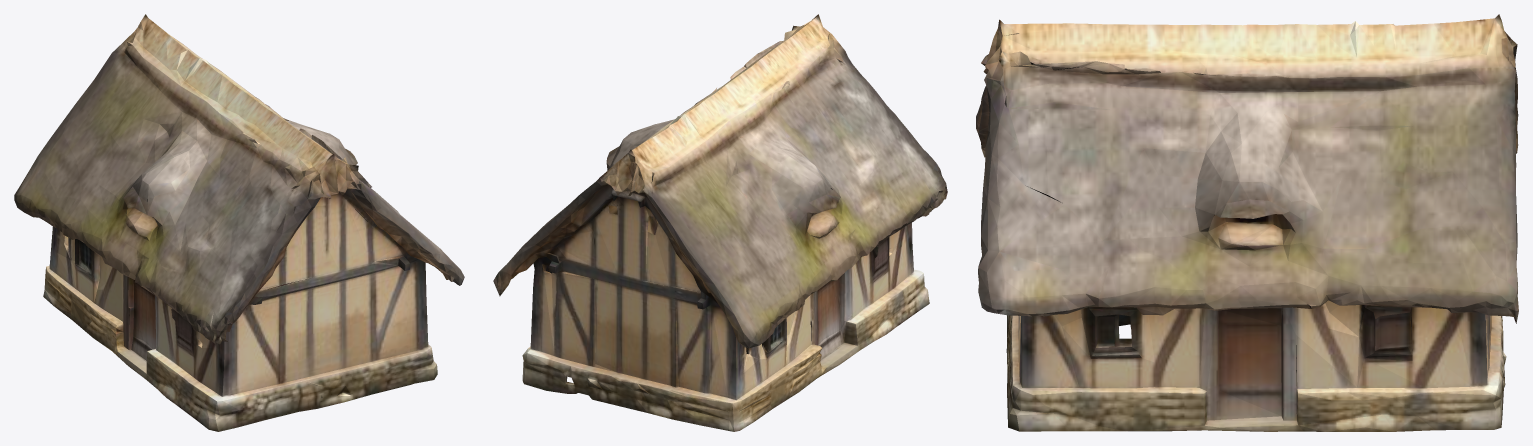
Rendered from ga3_house2_t1_lod0.glb.
3 views of the same model, side by side, from view 1: azimuth 30°, elevation 25°; view 2: azimuth 150°, elevation 25°; view 3: azimuth 270°, elevation 25° (orthographic). The views are drawn at different scales.
Parts seen in each view (by area): view 1: ga3_house2_t1_lod0; view 2: ga3_house2_t1_lod0; view 3: ga3_house2_t1_lod0.
Boxes of the visible parts, x1=… form: ga3_house2_t1_lod0: x1=14, y1=14, x2=464, y2=431; ga3_house2_t1_lod0: x1=493, y1=14, x2=947, y2=431; ga3_house2_t1_lod0: x1=976, y1=14, x2=1518, y2=431.
Bounding box in the file's own units: 5.93 × 5.62 × 7.99.
1 material, 1 textured.
